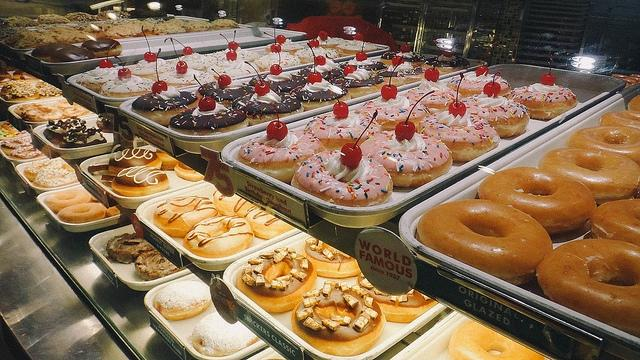cherry: (340, 110, 378, 168), (395, 90, 435, 141), (328, 70, 349, 119), (381, 55, 403, 100), (244, 61, 270, 96), (193, 75, 216, 112), (267, 102, 288, 141), (448, 72, 466, 117), (476, 42, 498, 76), (326, 54, 356, 76), (170, 38, 188, 74), (152, 61, 168, 94), (164, 38, 193, 56), (142, 26, 156, 62), (540, 50, 554, 86), (483, 71, 502, 97), (220, 34, 237, 61), (307, 43, 326, 66), (115, 56, 132, 80), (98, 44, 115, 68), (211, 68, 231, 88), (270, 48, 283, 76), (270, 22, 282, 52), (263, 32, 286, 44), (356, 41, 368, 62), (424, 68, 440, 82), (306, 72, 322, 86), (228, 30, 239, 50), (392, 50, 404, 66), (400, 40, 410, 53), (310, 38, 320, 48), (318, 31, 328, 41), (354, 32, 364, 42)
